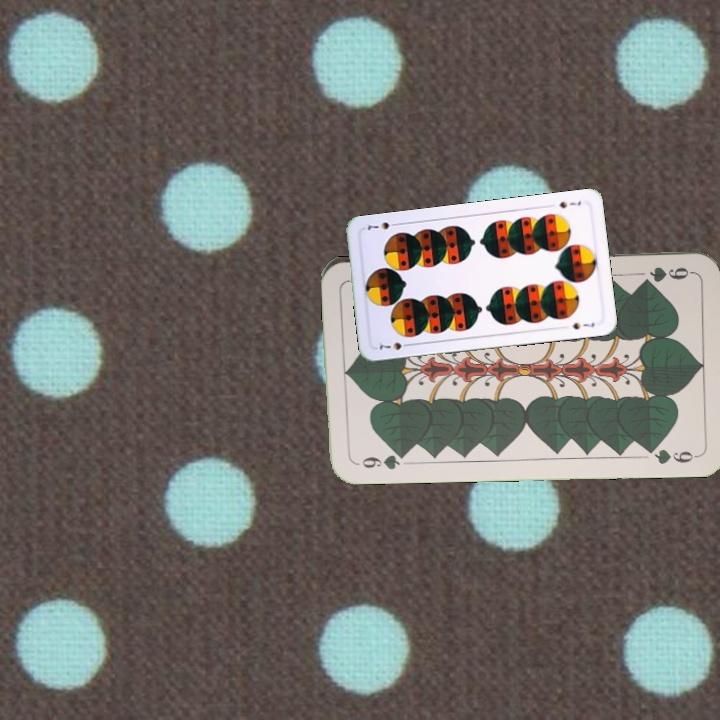G9: (349, 448, 408, 472), (645, 263, 695, 284)
S7: (375, 338, 414, 353), (556, 197, 583, 211)
